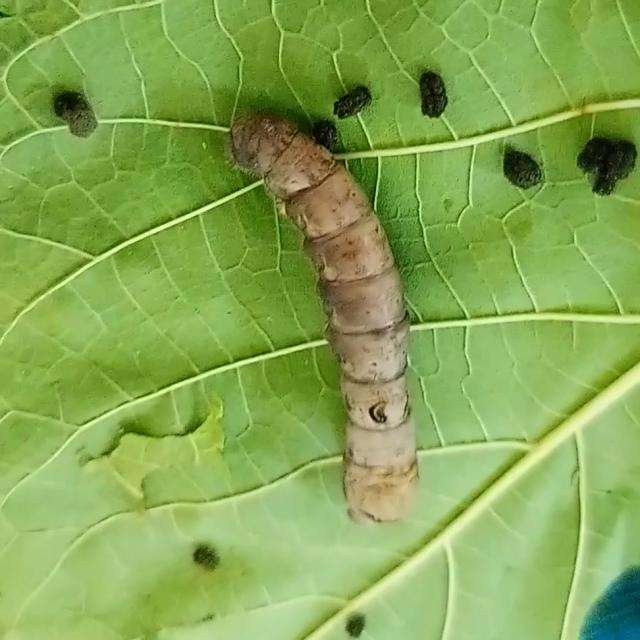Grasserie: (214, 100, 438, 532)
